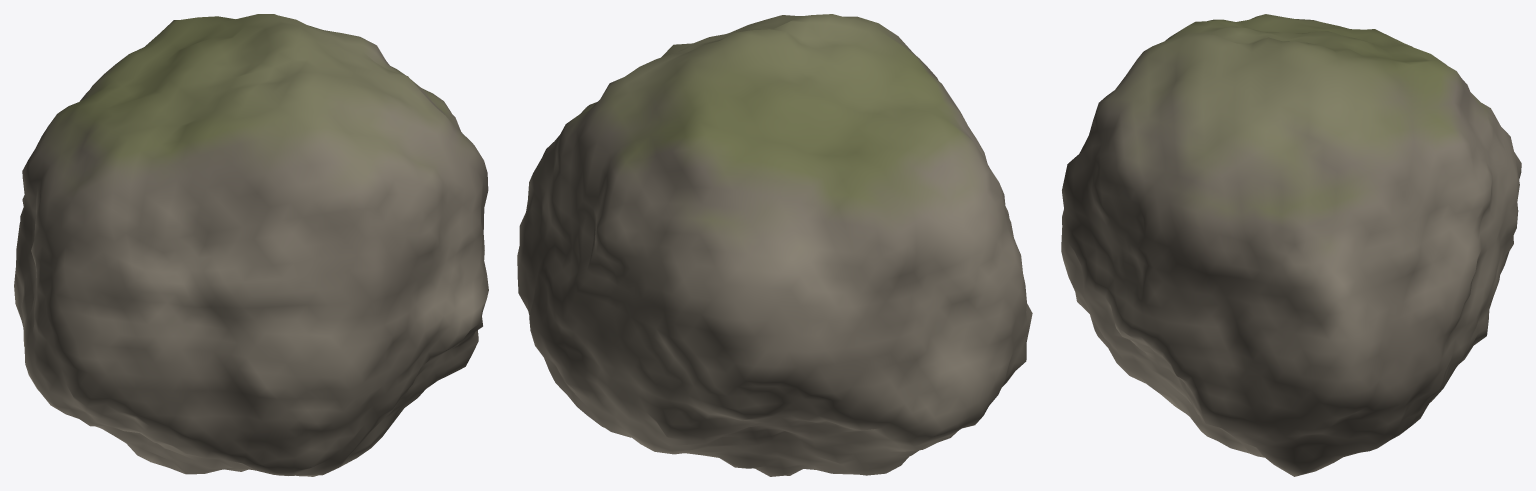
File: SM_V2_Rock_Shore.fbx
The picture shows the model from 3 angles, left to right: view 1: azimuth 30°, elevation 25°; view 2: azimuth 150°, elevation 25°; view 3: azimuth 270°, elevation 25°; orthographic projection. The views are drawn at different scales.
Parts seen in each view (by area): view 1: SM_V2_Rock_Shore; view 2: SM_V2_Rock_Shore; view 3: SM_V2_Rock_Shore.
Boxes of the visible parts, bbox=[...] form: SM_V2_Rock_Shore: bbox=[14, 14, 488, 476]; SM_V2_Rock_Shore: bbox=[517, 14, 1032, 476]; SM_V2_Rock_Shore: bbox=[1061, 14, 1521, 476].
Size of the model in its own units: 3.96 by 3.53 by 3.64.
